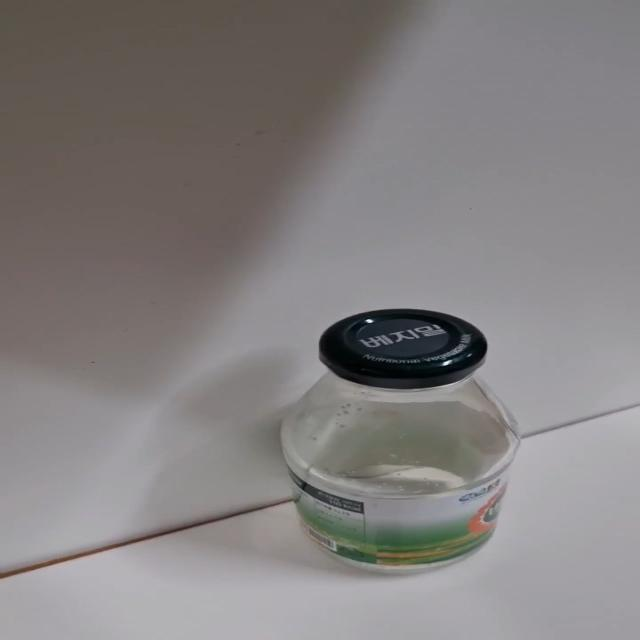Glass: (279, 308, 524, 577)
